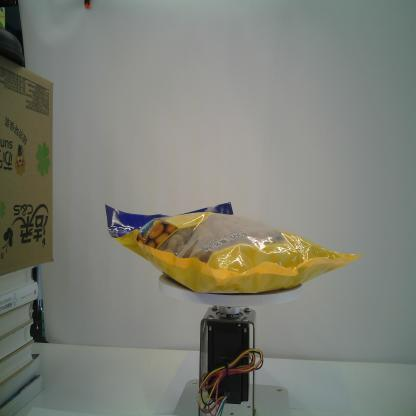Dried Food: (101, 200, 366, 296)
